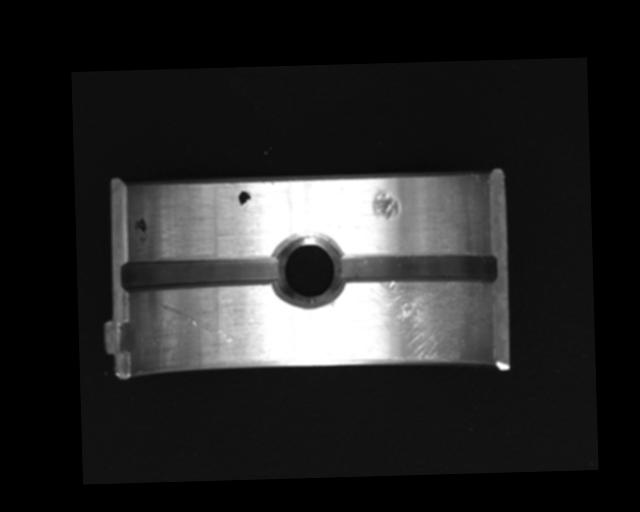blot: (133, 216, 148, 246), (238, 190, 251, 210)
bruise: (372, 185, 400, 220)
gap: (119, 252, 281, 292), (332, 250, 498, 288)
hole: (269, 231, 344, 311)
nick: (159, 301, 234, 345)
scratch: (341, 278, 485, 365)
